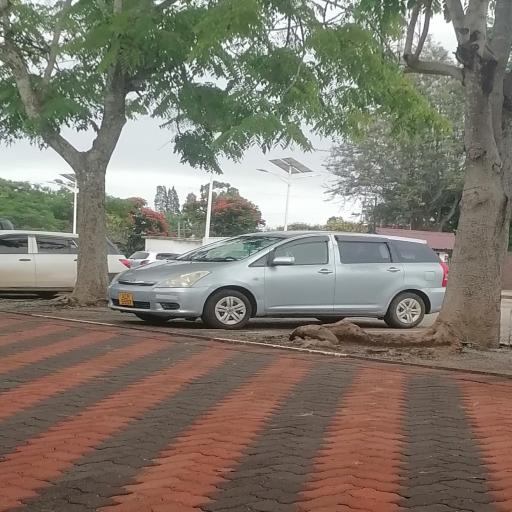number-plates: (118, 292, 138, 306)
